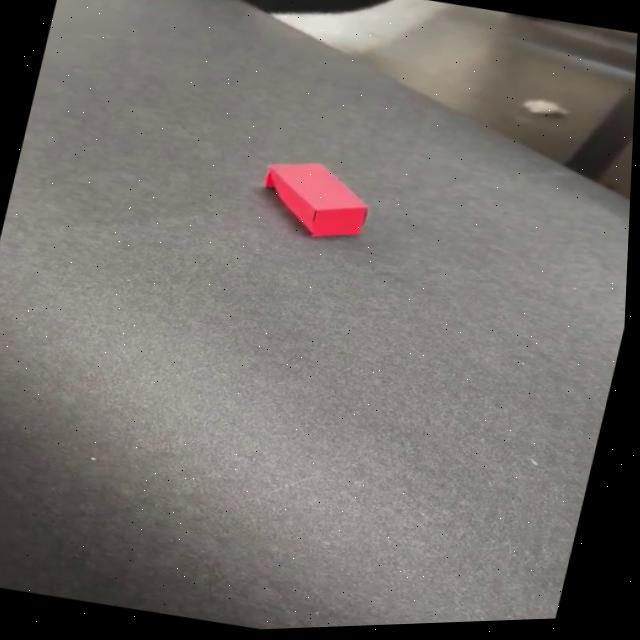red block: (251, 149, 380, 248)
